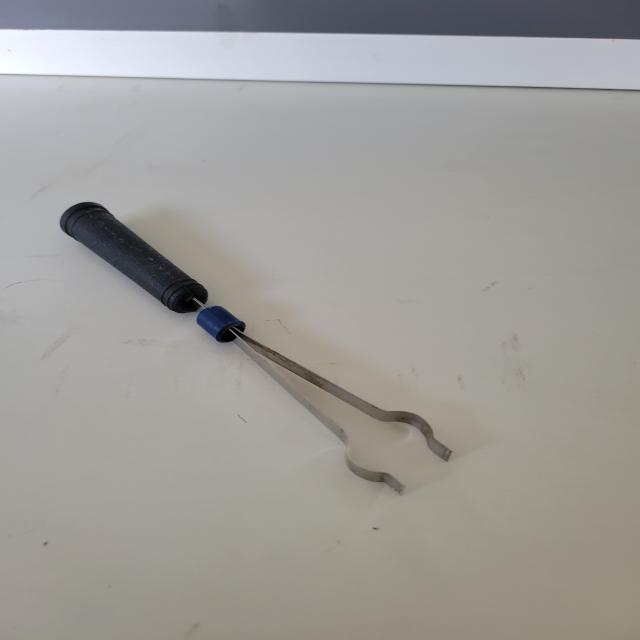TestTube_Holder: (30, 154, 506, 540)
